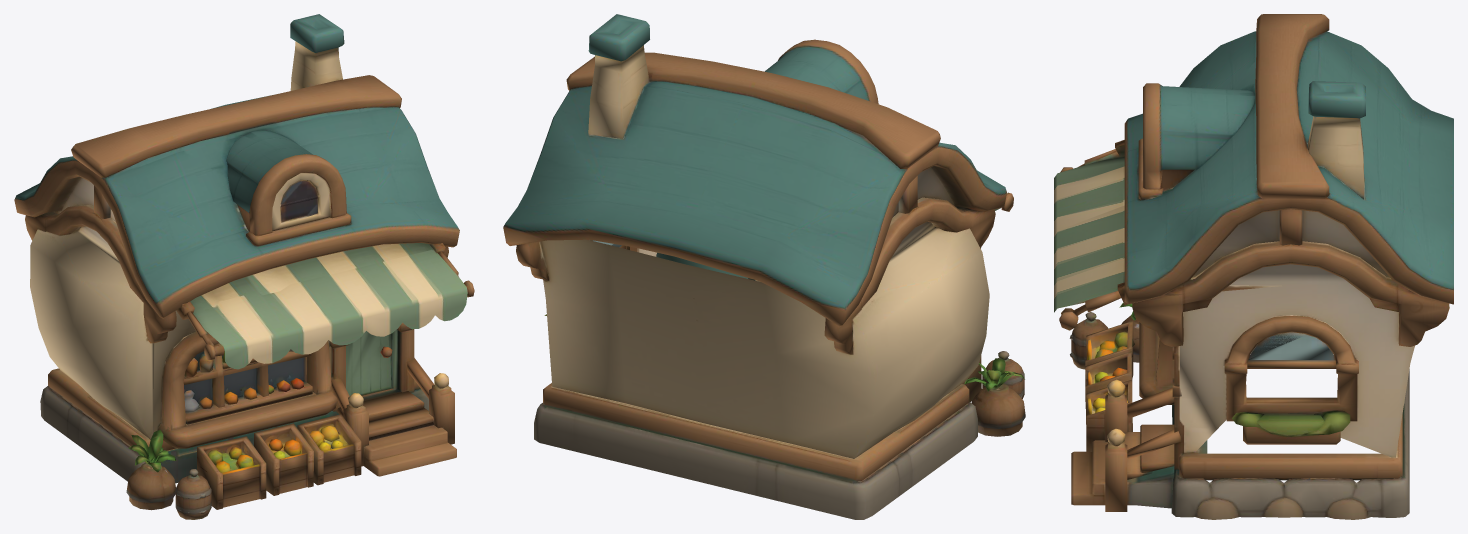
The model's file is island-shop.glb.
3 views of the same model, side by side, from view 1: azimuth 30°, elevation 25°; view 2: azimuth 150°, elevation 25°; view 3: azimuth 270°, elevation 25° (orthographic). The views are drawn at different scales.
Parts seen in each view (by area): view 1: Island Shop; view 2: Island Shop; view 3: Island Shop.
Part boxes in pixels (x1,y1,x2,y2): Island Shop: (14, 14, 474, 519); Island Shop: (503, 14, 1025, 519); Island Shop: (1054, 14, 1453, 519).
Bounding box in the file's own units: 0.9902 × 0.998 × 0.8965.
1 material, 1 textured.
